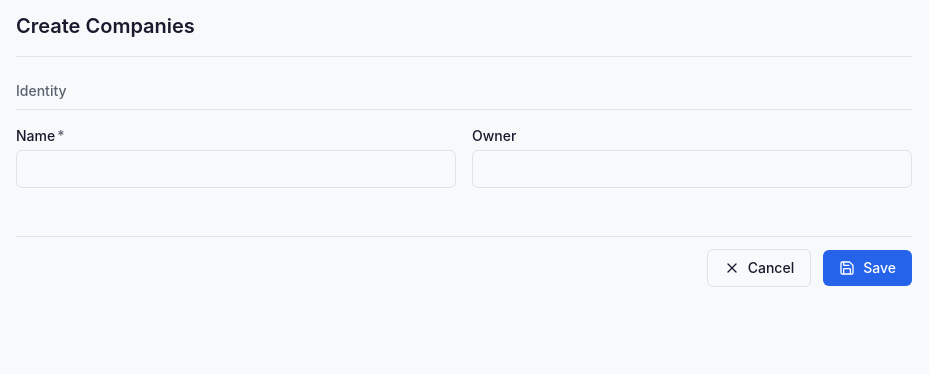
Test: Explicit fixed relationship submission › rejects undeclared or mistyped fixed values before HTTP: {"missing":1}
The width and height of the screenshot is (929, 374).
Type "Child" into the field labelled "Name*".
click(236, 169); type("Child")  # box [16,150,456,188]
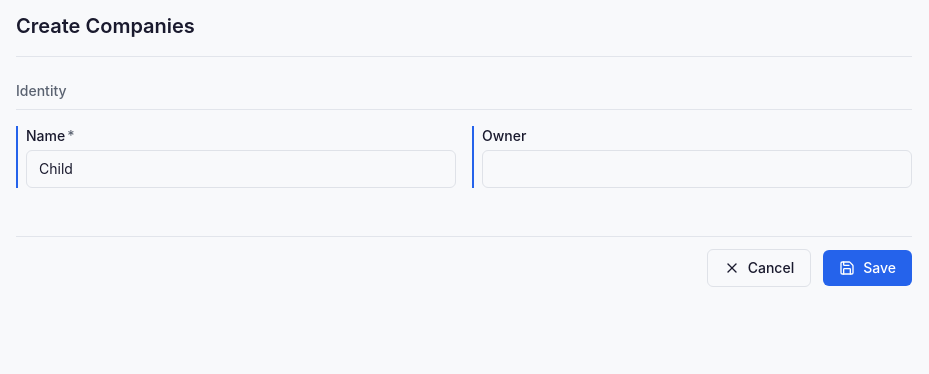
Click the button "Save".
click(868, 268)  # box [823,250,912,286]
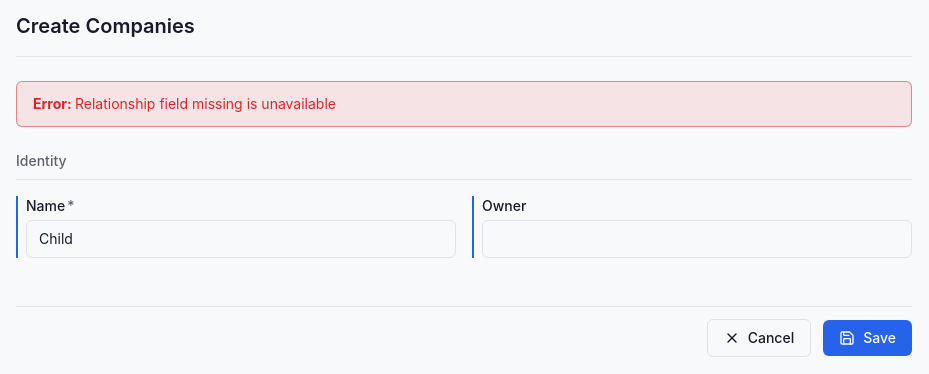
Check: the message "Error: Relationship field missing is unavailable" is shown, box [16,81,912,127]
